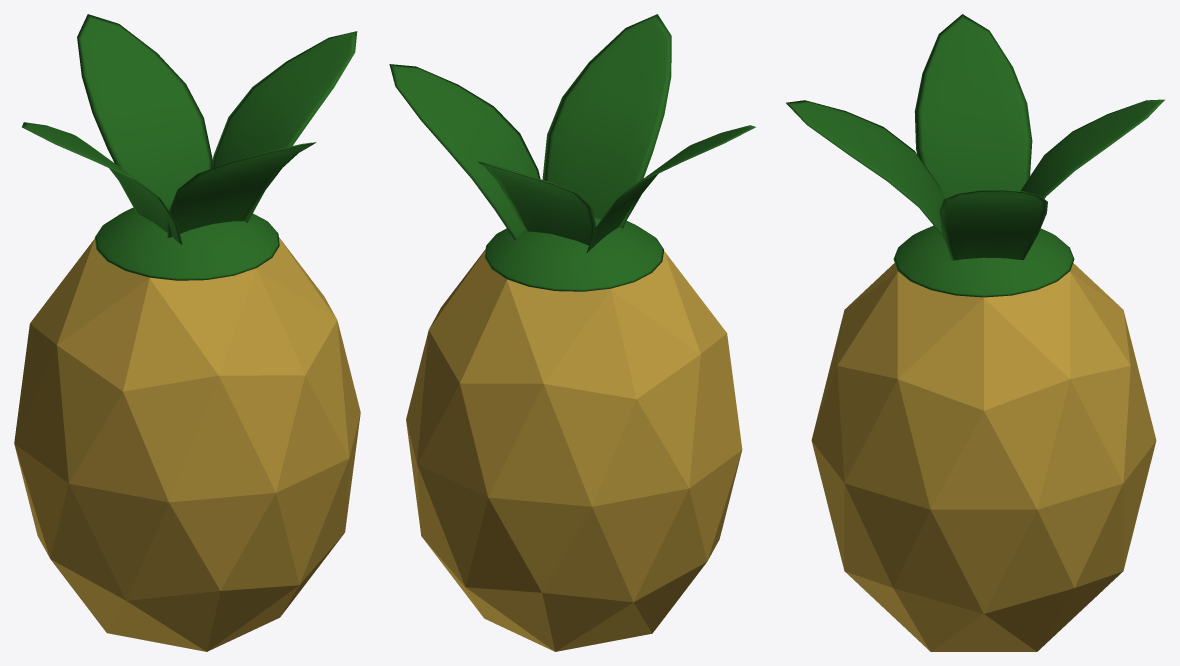
The model's file is Ananas.fbx.
3 renders of one model, left to right at view 1: azimuth 30°, elevation 25°; view 2: azimuth 150°, elevation 25°; view 3: azimuth 270°, elevation 25°, orthographic. The views are drawn at different scales.
Visible parts, largest first — view 1: Frutto, Foglie; view 2: Frutto, Foglie; view 3: Frutto, Foglie.
Boxes of the visible parts, x1,y1,x2,y2 form: Frutto: (14, 237, 360, 651); Foglie: (22, 14, 357, 280); Frutto: (406, 249, 742, 651); Foglie: (389, 14, 755, 291); Frutto: (811, 263, 1156, 651); Foglie: (786, 14, 1164, 297).
Bounding box in the file's own units: 285 × 425 × 270.
